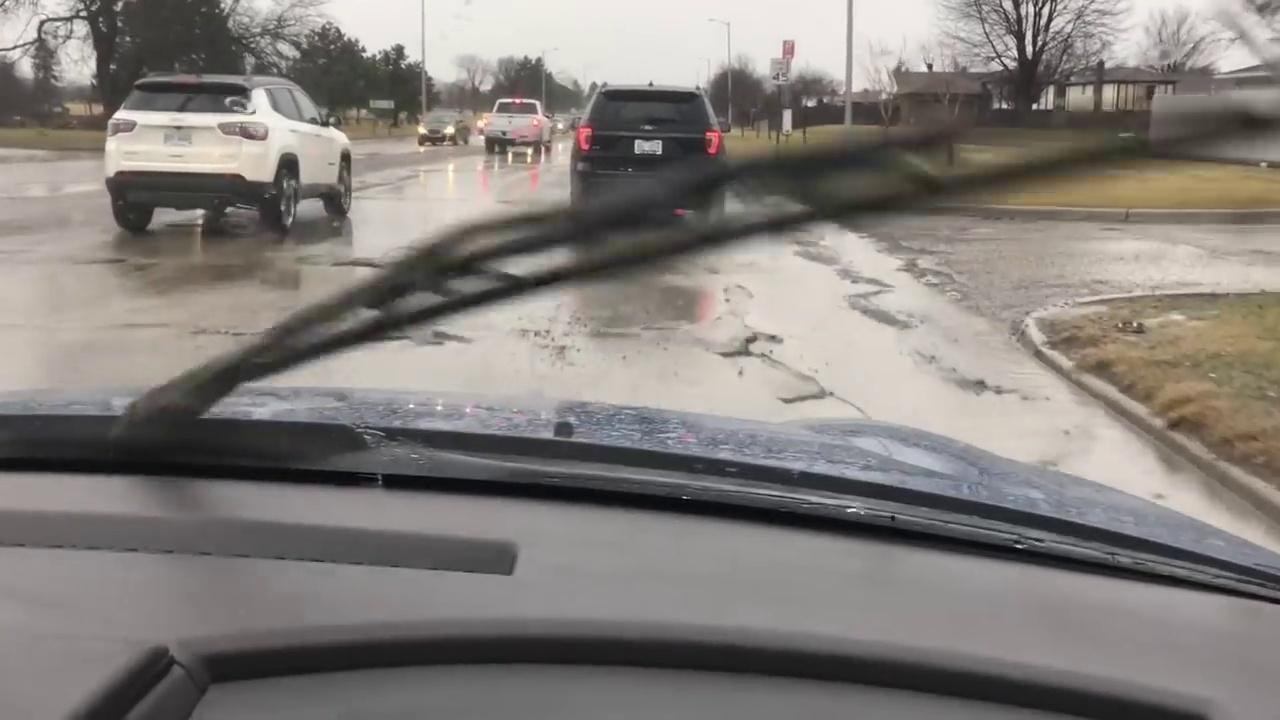pothole: (830, 271, 887, 302), (745, 336, 784, 357)
